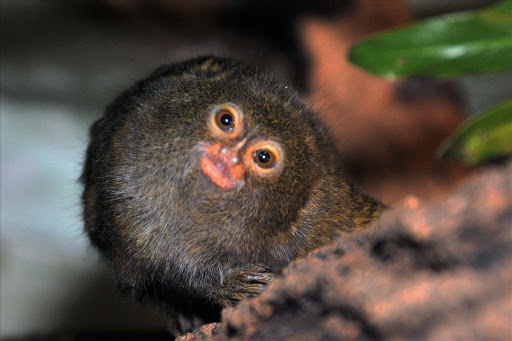PygmyMarmoset: (69, 46, 396, 295)
